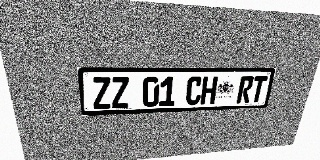0: (142, 77, 159, 107)
1: (159, 77, 176, 107)
C: (185, 76, 203, 105)
H: (200, 76, 218, 105)
R: (236, 76, 254, 103)
T: (249, 76, 268, 103)
Z: (91, 77, 111, 109), (111, 77, 129, 108)
